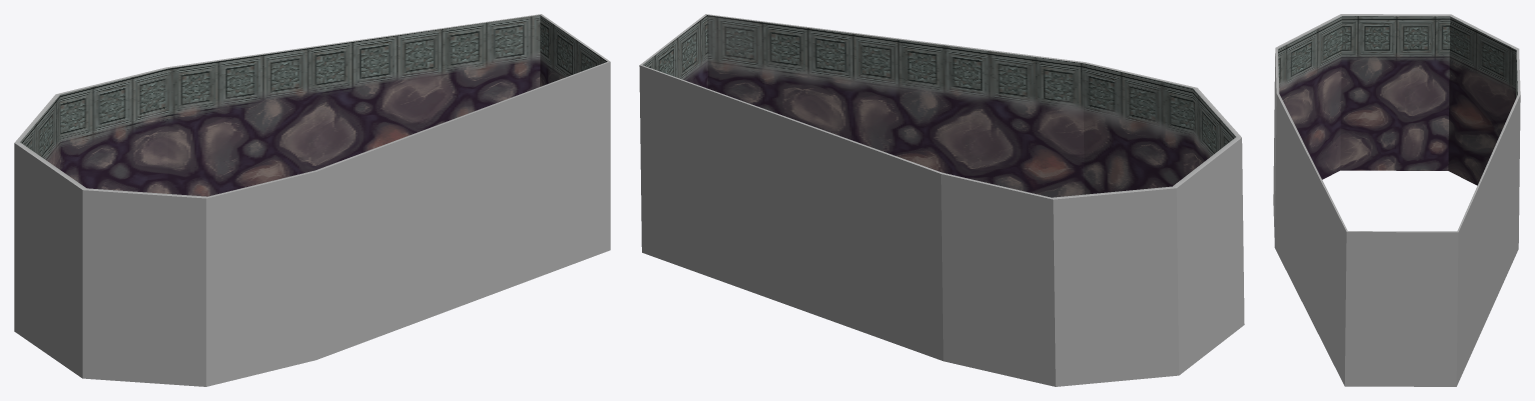
Rendered from wall2.fbx.
3 renders of one model, left to right at view 1: azimuth 30°, elevation 25°; view 2: azimuth 150°, elevation 25°; view 3: azimuth 270°, elevation 25°, orthographic. The views are drawn at different scales.
Parts seen in each view (by area): view 1: Wand; view 2: Wand; view 3: Wand.
Boxes of the visible parts, x1,y1,x2,y2 form: Wand: (14, 14, 610, 386); Wand: (639, 14, 1244, 386); Wand: (1273, 14, 1520, 386).
Bounding box in the file's own units: 35387 × 12193 × 17123.
